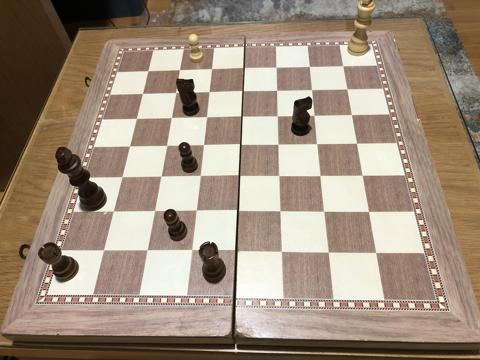xcorner: (174, 64, 187, 77), (309, 109, 322, 122), (238, 63, 251, 75), (206, 63, 218, 76), (238, 85, 250, 98), (170, 87, 183, 99), (201, 111, 213, 124), (312, 138, 325, 150), (274, 138, 286, 151), (198, 139, 210, 152), (124, 140, 136, 153), (358, 169, 370, 182), (234, 170, 247, 182), (277, 246, 290, 258), (231, 246, 244, 258), (186, 246, 199, 258), (142, 245, 154, 258), (338, 60, 350, 72), (304, 61, 316, 73), (271, 62, 283, 74), (143, 65, 155, 77), (342, 83, 354, 95), (307, 84, 319, 96), (272, 85, 284, 97), (204, 86, 216, 98), (137, 88, 149, 100), (347, 109, 359, 121), (273, 110, 285, 122), (237, 111, 249, 123), (166, 112, 178, 124), (131, 113, 143, 125), (352, 137, 364, 149), (236, 139, 248, 151), (161, 140, 173, 152), (316, 170, 328, 182), (275, 170, 287, 182), (195, 171, 207, 183), (155, 171, 167, 183), (117, 171, 129, 183), (364, 206, 376, 218), (320, 206, 332, 218), (276, 206, 288, 218), (233, 206, 245, 218), (191, 206, 203, 218), (149, 206, 161, 218), (108, 206, 120, 218), (372, 247, 384, 259), (324, 247, 336, 259), (98, 245, 110, 257)
